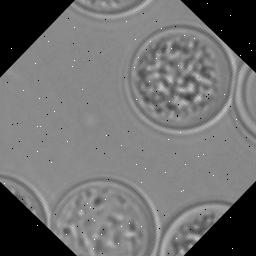picoshell: (126, 24, 236, 134), (52, 178, 161, 256), (158, 201, 233, 256), (0, 174, 51, 228), (234, 64, 256, 143), (71, 0, 152, 19)
